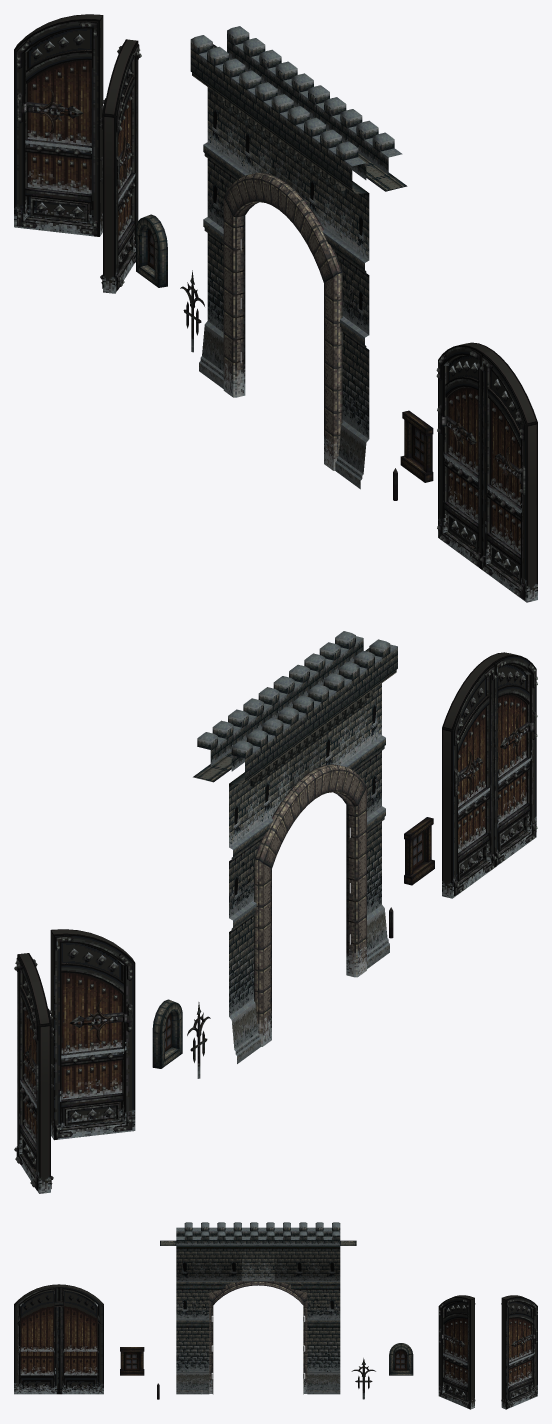
The model's file is EnvMdrMD_Snow_B_Door_B.FBX.
3 renders of one model, top to bottom at view 1: azimuth 30°, elevation 25°; view 2: azimuth 150°, elevation 25°; view 3: azimuth 270°, elevation 25°, orthographic. The views are drawn at different scales.
Visible parts, largest first — view 1: EnvMdrMD_Snow_B_Door_B, EnvMdrMD_Snow_B_Door_B_Open, EnvMdrMD_Snow_B_Door_B_Close, EnvMdrMD_Snow_B_Indoor_Window_A_Open, EnvMdrMD_Snow_B_Indoor_Window_B_Open; view 2: EnvMdrMD_Snow_B_Door_B, EnvMdrMD_Snow_B_Door_B_Open, EnvMdrMD_Snow_B_Door_B_Close, EnvMdrMD_Snow_B_Indoor_Window_A_Open, EnvMdrMD_Snow_B_Indoor_Window_B_Open; view 3: EnvMdrMD_Snow_B_Door_B, EnvMdrMD_Snow_B_Door_B_Close, EnvMdrMD_Snow_B_Door_B_Open, EnvMdrMD_Snow_B_Indoor_Window_A_Open, EnvMdrMD_Snow_B_Indoor_Window_B_Open, EnvMdrMD_Snow_B_Fence_A_Loop_A.
Part boxes in pixels (x1,y1,x2,y2): EnvMdrMD_Snow_B_Door_B: [190, 26, 407, 489]; EnvMdrMD_Snow_B_Door_B_Open: [14, 14, 141, 293]; EnvMdrMD_Snow_B_Door_B_Close: [436, 342, 537, 602]; EnvMdrMD_Snow_B_Indoor_Window_A_Open: [136, 214, 167, 287]; EnvMdrMD_Snow_B_Indoor_Window_B_Open: [400, 410, 433, 482]; EnvMdrMD_Snow_B_Door_B: [193, 631, 397, 1063]; EnvMdrMD_Snow_B_Door_B_Open: [14, 929, 135, 1193]; EnvMdrMD_Snow_B_Door_B_Close: [442, 652, 537, 898]; EnvMdrMD_Snow_B_Indoor_Window_A_Open: [152, 999, 182, 1068]; EnvMdrMD_Snow_B_Indoor_Window_B_Open: [404, 817, 434, 885]; EnvMdrMD_Snow_B_Door_B: [160, 1222, 356, 1394]; EnvMdrMD_Snow_B_Door_B_Close: [14, 1284, 103, 1394]; EnvMdrMD_Snow_B_Door_B_Open: [438, 1295, 537, 1409]; EnvMdrMD_Snow_B_Indoor_Window_A_Open: [389, 1343, 413, 1375]; EnvMdrMD_Snow_B_Indoor_Window_B_Open: [120, 1347, 144, 1375]; EnvMdrMD_Snow_B_Fence_A_Loop_A: [351, 1358, 375, 1399].
Size of the model in its own units: 274 by 1155 by 3201.
